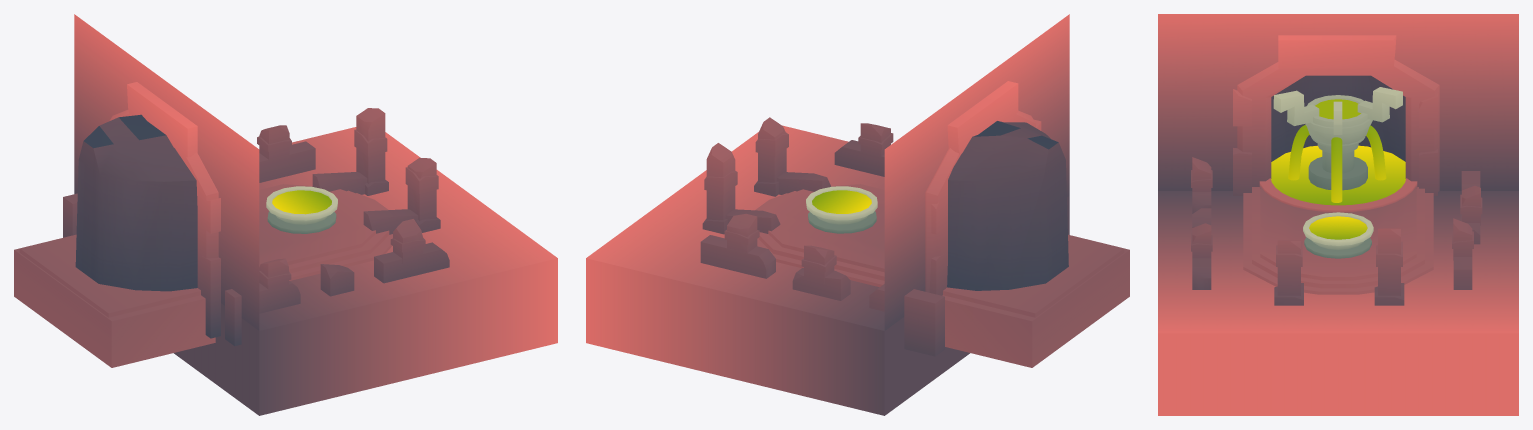
Rendered from TempleLevel.fbx.
3 views of the same model, side by side, from view 1: azimuth 30°, elevation 25°; view 2: azimuth 150°, elevation 25°; view 3: azimuth 270°, elevation 25° (orthographic). The views are drawn at different scales.
Parts seen in each view (by area): view 1: Ground_wall, Pillars, Steps, SmallFont, Goop; view 2: Ground_wall, Pillars, Steps, SmallFont, Goop; view 3: Ground_wall, Pillars, Steps, MainFont, Goop, Goop_4, SmallFont.
Boxes of the visible parts, box(x1,y1,x2,y2) form: Ground_wall: box(74, 14, 557, 415); Pillars: box(63, 82, 449, 346); Steps: box(14, 184, 392, 367); SmallFont: box(266, 186, 337, 233); Goop: box(272, 190, 331, 214); Ground_wall: box(586, 14, 1069, 415); Pillars: box(700, 81, 1041, 356); Steps: box(755, 184, 1129, 367); SmallFont: box(806, 186, 877, 233); Goop: box(812, 190, 871, 213); Ground_wall: box(1158, 14, 1518, 415); Pillars: box(1191, 35, 1482, 305); Steps: box(1243, 145, 1433, 294); MainFont: box(1273, 87, 1402, 190); Goop: box(1271, 145, 1405, 239); Goop_4: box(1288, 125, 1386, 202); SmallFont: box(1303, 212, 1373, 258).
Bounding box in the file's own units: 2347 × 1485 × 1868.
